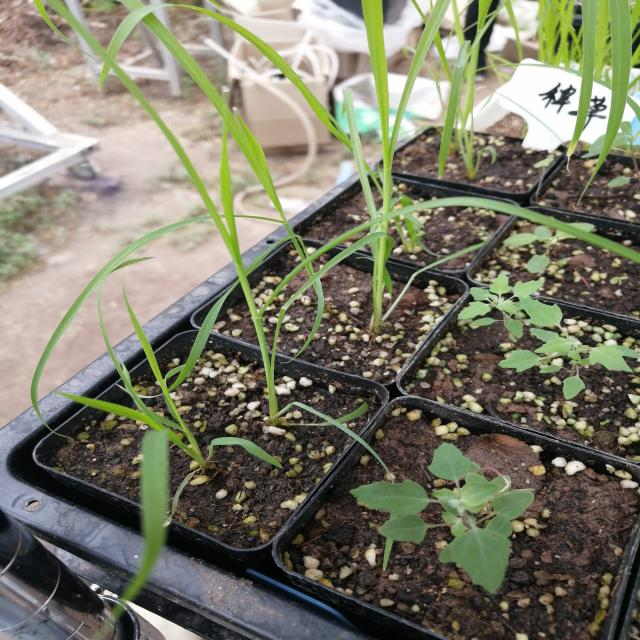goosefoots: (356, 423, 550, 578), (436, 264, 572, 343), (512, 322, 628, 408)
